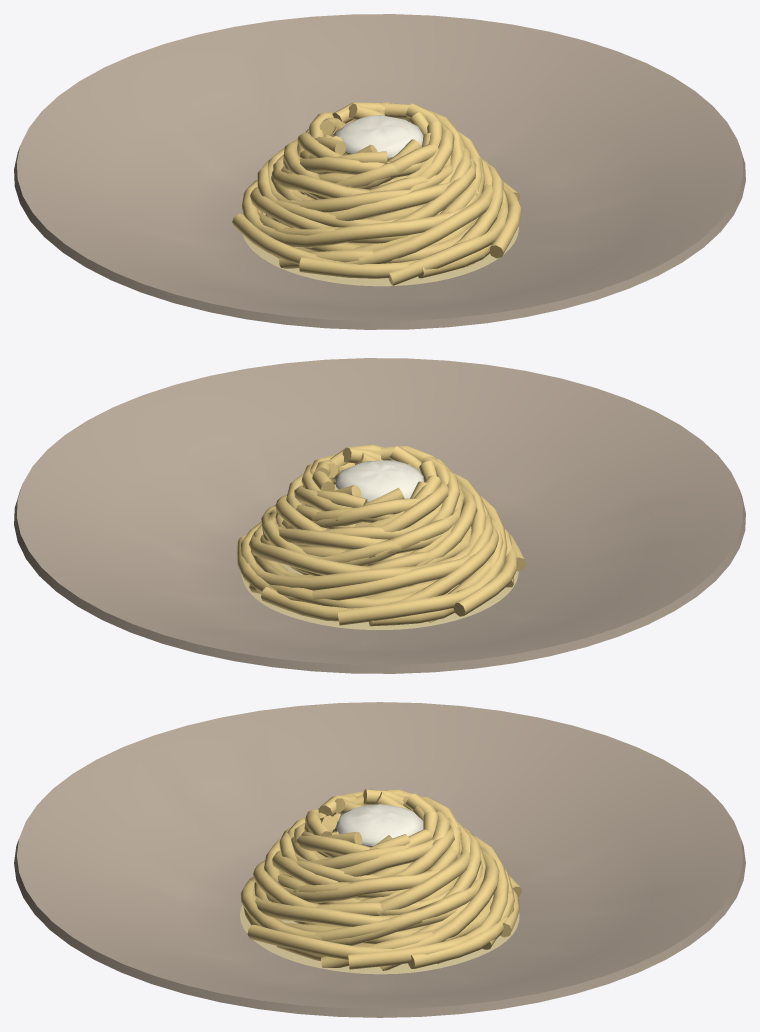
File: dish-cacio-e-pepe-lod0.glb
3 views of the same model, one above another, from view 1: azimuth 30°, elevation 25°; view 2: azimuth 150°, elevation 25°; view 3: azimuth 270°, elevation 25° (orthographic).
Parts seen in each view (by area): view 1: cacio-e-pepe.lod0__table warm glaze, cacio-e-pepe.lod0__food glaze, cacio-e-pepe.lod0__food; view 2: cacio-e-pepe.lod0__table warm glaze, cacio-e-pepe.lod0__food glaze, cacio-e-pepe.lod0__food; view 3: cacio-e-pepe.lod0__table warm glaze, cacio-e-pepe.lod0__food glaze, cacio-e-pepe.lod0__food.
Part boxes in pixels (x1,y1,x2,y2): cacio-e-pepe.lod0__table warm glaze: (14, 14, 745, 329); cacio-e-pepe.lod0__food glaze: (232, 102, 522, 286); cacio-e-pepe.lod0__food: (334, 115, 423, 158); cacio-e-pepe.lod0__table warm glaze: (14, 358, 745, 673); cacio-e-pepe.lod0__food glaze: (237, 444, 526, 629); cacio-e-pepe.lod0__food: (336, 460, 423, 502); cacio-e-pepe.lod0__table warm glaze: (14, 702, 745, 1017); cacio-e-pepe.lod0__food glaze: (240, 789, 521, 974); cacio-e-pepe.lod0__food: (336, 804, 423, 846).
Size of the model in its own units: 0.26 by 0.0545 by 0.26.
